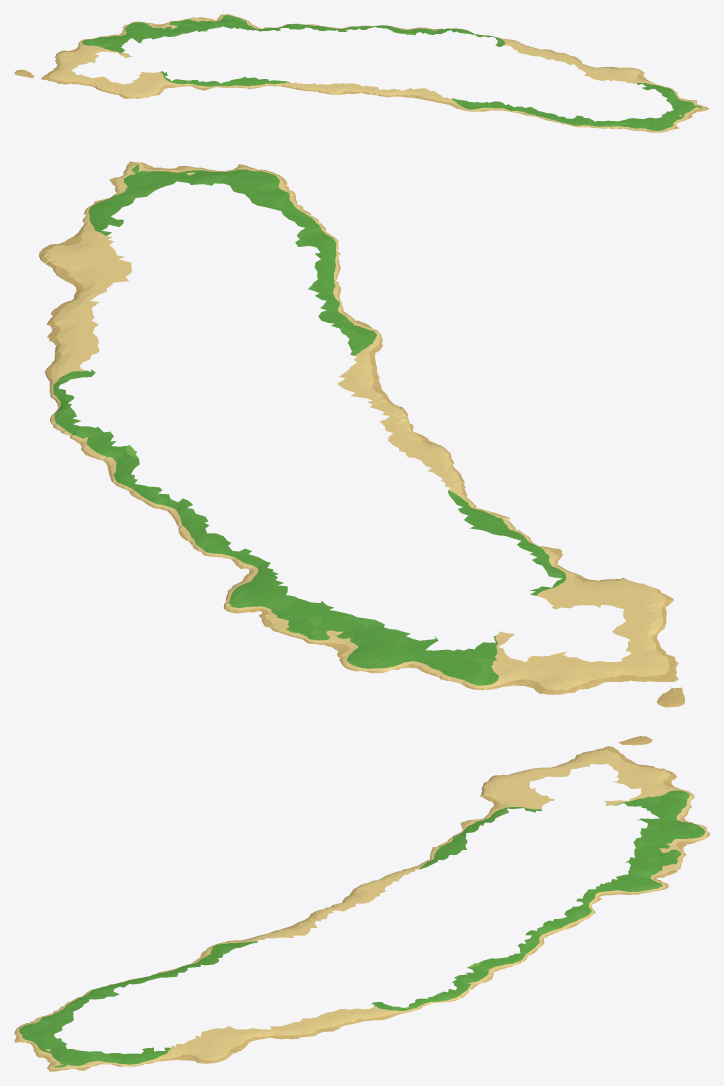
Rendered from Isl-long3-Ground.fbx.
3 views of the same model, one above another, from view 1: azimuth 30°, elevation 25°; view 2: azimuth 150°, elevation 25°; view 3: azimuth 270°, elevation 25° (orthographic). The views are drawn at different scales.
Visible parts, largest first — view 1: Isl-long3-Ground-c12, Isl-long3-Ground-c21, Isl-long3-Ground-c20, Isl-long3-Ground-c02, Isl-long3-Ground-c11, Isl-long3-Ground-c22; view 2: Isl-long3-Ground-c12, Isl-long3-Ground-c21, Isl-long3-Ground-c02, Isl-long3-Ground-c20, Isl-long3-Ground-c22, Isl-long3-Ground-c11; view 3: Isl-long3-Ground-c12, Isl-long3-Ground-c21, Isl-long3-Ground-c20, Isl-long3-Ground-c22, Isl-long3-Ground-c02, Isl-long3-Ground-c11.
Part boxes in pixels (left/top/right/bottom): Isl-long3-Ground-c12: left=62, top=14, right=317, bottom=98; Isl-long3-Ground-c21: left=401, top=33, right=690, bottom=127; Isl-long3-Ground-c20: left=582, top=100, right=705, bottom=132; Isl-long3-Ground-c02: left=14, top=51, right=130, bottom=98; Isl-long3-Ground-c11: left=255, top=80, right=408, bottom=97; Isl-long3-Ground-c22: left=308, top=24, right=474, bottom=35; Isl-long3-Ground-c12: left=186, top=500, right=671, bottom=693; Isl-long3-Ground-c21: left=39, top=182, right=384, bottom=406; Isl-long3-Ground-c02: left=538, top=595, right=684, bottom=707; Isl-long3-Ground-c20: left=111, top=162, right=333, bottom=236; Isl-long3-Ground-c22: left=49, top=406, right=208, bottom=539; Isl-long3-Ground-c11: left=367, top=393, right=500, bottom=514; Isl-long3-Ground-c12: left=431, top=774, right=709, bottom=923; Isl-long3-Ground-c21: left=84, top=920, right=432, bottom=1068; Isl-long3-Ground-c20: left=14, top=992, right=88, bottom=1069; Isl-long3-Ground-c22: left=432, top=920, right=579, bottom=1003; Isl-long3-Ground-c02: left=491, top=736, right=676, bottom=778; Isl-long3-Ground-c11: left=297, top=850, right=432, bottom=923.
Bounding box in the file's own units: 137 × 0.4898 × 120.
